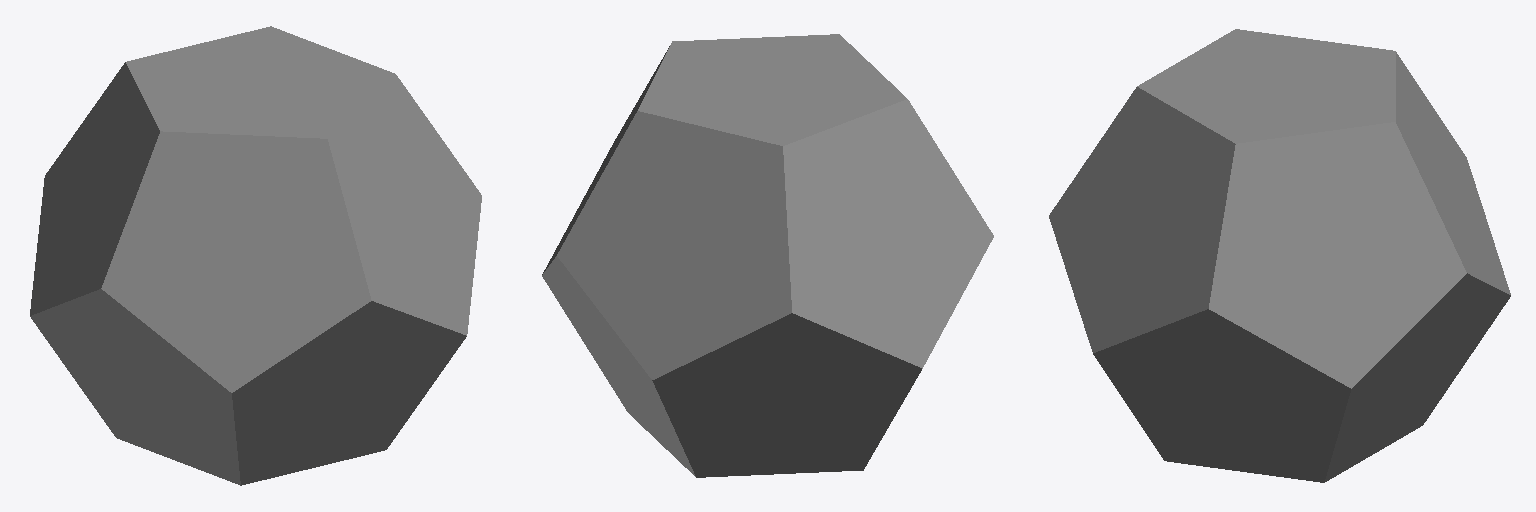
The picture shows the model from 3 angles: view 1: azimuth 30°, elevation 25°; view 2: azimuth 150°, elevation 25°; view 3: azimuth 270°, elevation 25°; orthographic projection.
Visible parts, largest first — view 1: Hedra001; view 2: Hedra001; view 3: Hedra001.
Boxes of the visible parts, x1,y1,x2,y2 form: Hedra001: [30, 26, 481, 485]; Hedra001: [542, 34, 993, 477]; Hedra001: [1049, 29, 1510, 482].
Bounding box in the file's own units: 3.08 × 2.62 × 3.24.